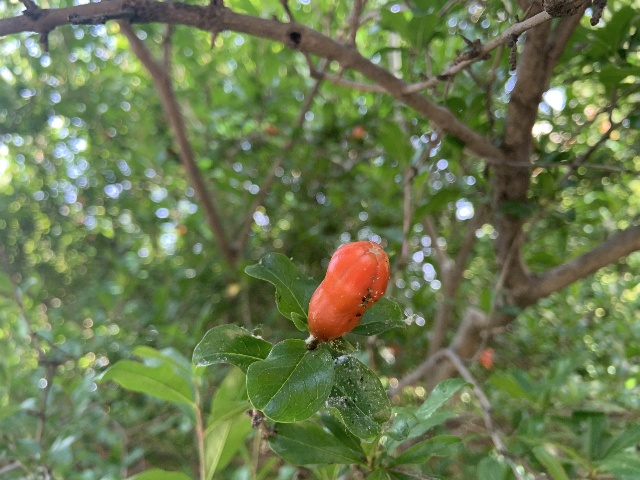bud: (308, 240, 389, 341)
